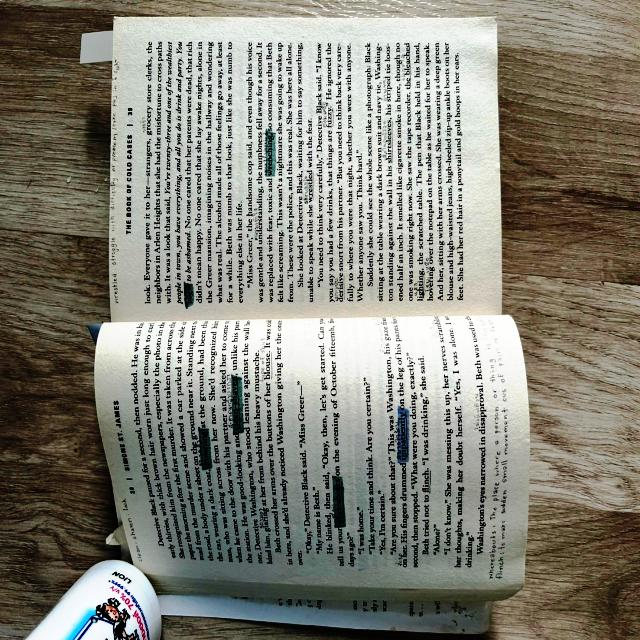Book: (94, 18, 529, 630)
